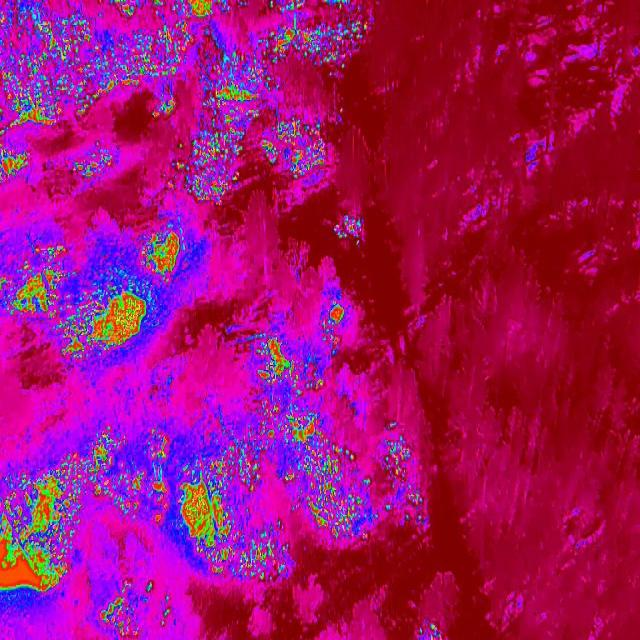fire: (184, 0, 369, 201), (0, 216, 215, 370), (88, 420, 290, 580), (264, 290, 376, 545), (0, 0, 197, 138), (0, 456, 88, 603), (384, 426, 430, 536), (100, 590, 151, 640), (0, 148, 33, 180)
